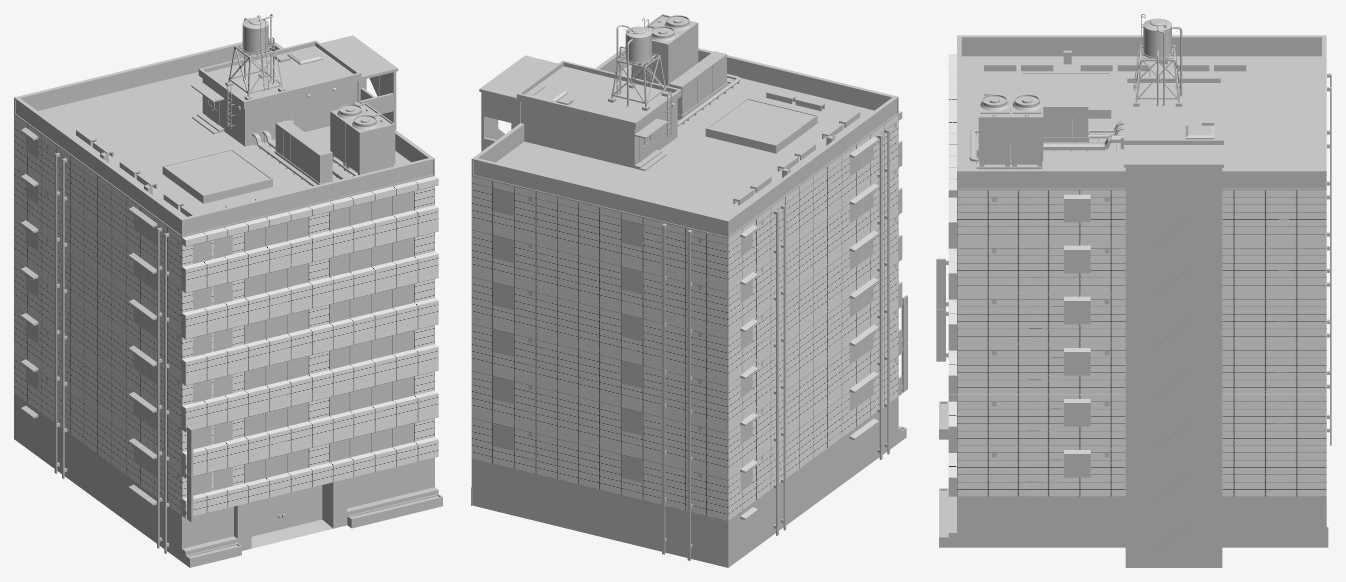
File: Building_2021_043.fbx
The picture shows the model from 3 angles, left to right: view 1: azimuth 30°, elevation 25°; view 2: azimuth 150°, elevation 25°; view 3: azimuth 270°, elevation 25°; orthographic projection. The views are drawn at different scales.
Parts seen in each view (by area): view 1: Building_2021_043; view 2: Building_2021_043; view 3: Building_2021_043.
Boxes of the visible parts, x1,y1,x2,y2 form: Building_2021_043: (14, 14, 442, 567); Building_2021_043: (471, 14, 907, 567); Building_2021_043: (936, 14, 1331, 567).
Size of the model in its own units: 2351 by 3328 by 2458.
